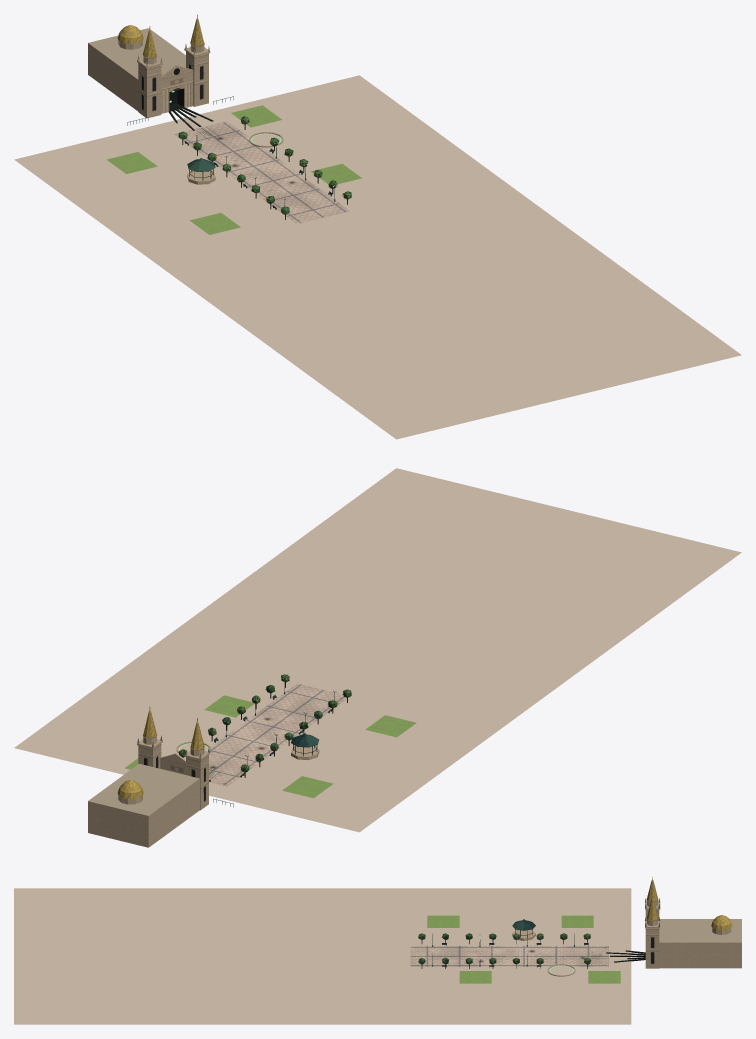
File: lugar-guadalajara.glb
3 renders of one model, top to bottom at view 1: azimuth 30°, elevation 25°; view 2: azimuth 150°, elevation 25°; view 3: azimuth 270°, elevation 25°, orthographic. The views are drawn at different scales.
Visible parts, largest first — view 1: luzG-cerca, luzS-pista, vert-cerca; view 2: luzG-cerca, luzS-pista, vert-cerca; view 3: luzG-cerca, luzS-pista, vert-cerca.
Boxes of the visible parts, x1,y1,x2,y2 form: luzG-cerca: [14, 75, 741, 439]; luzS-pista: [88, 18, 349, 223]; vert-cerca: [127, 14, 351, 219]; luzG-cerca: [14, 468, 741, 832]; luzS-pista: [88, 683, 348, 847]; vert-cerca: [137, 674, 351, 807]; luzG-cerca: [14, 888, 631, 1024]; luzS-pista: [410, 879, 741, 976]; vert-cerca: [418, 876, 660, 968].
Size of the model in its own units: 120 by 29.17 by 271.
14 materials, 9 textured.
